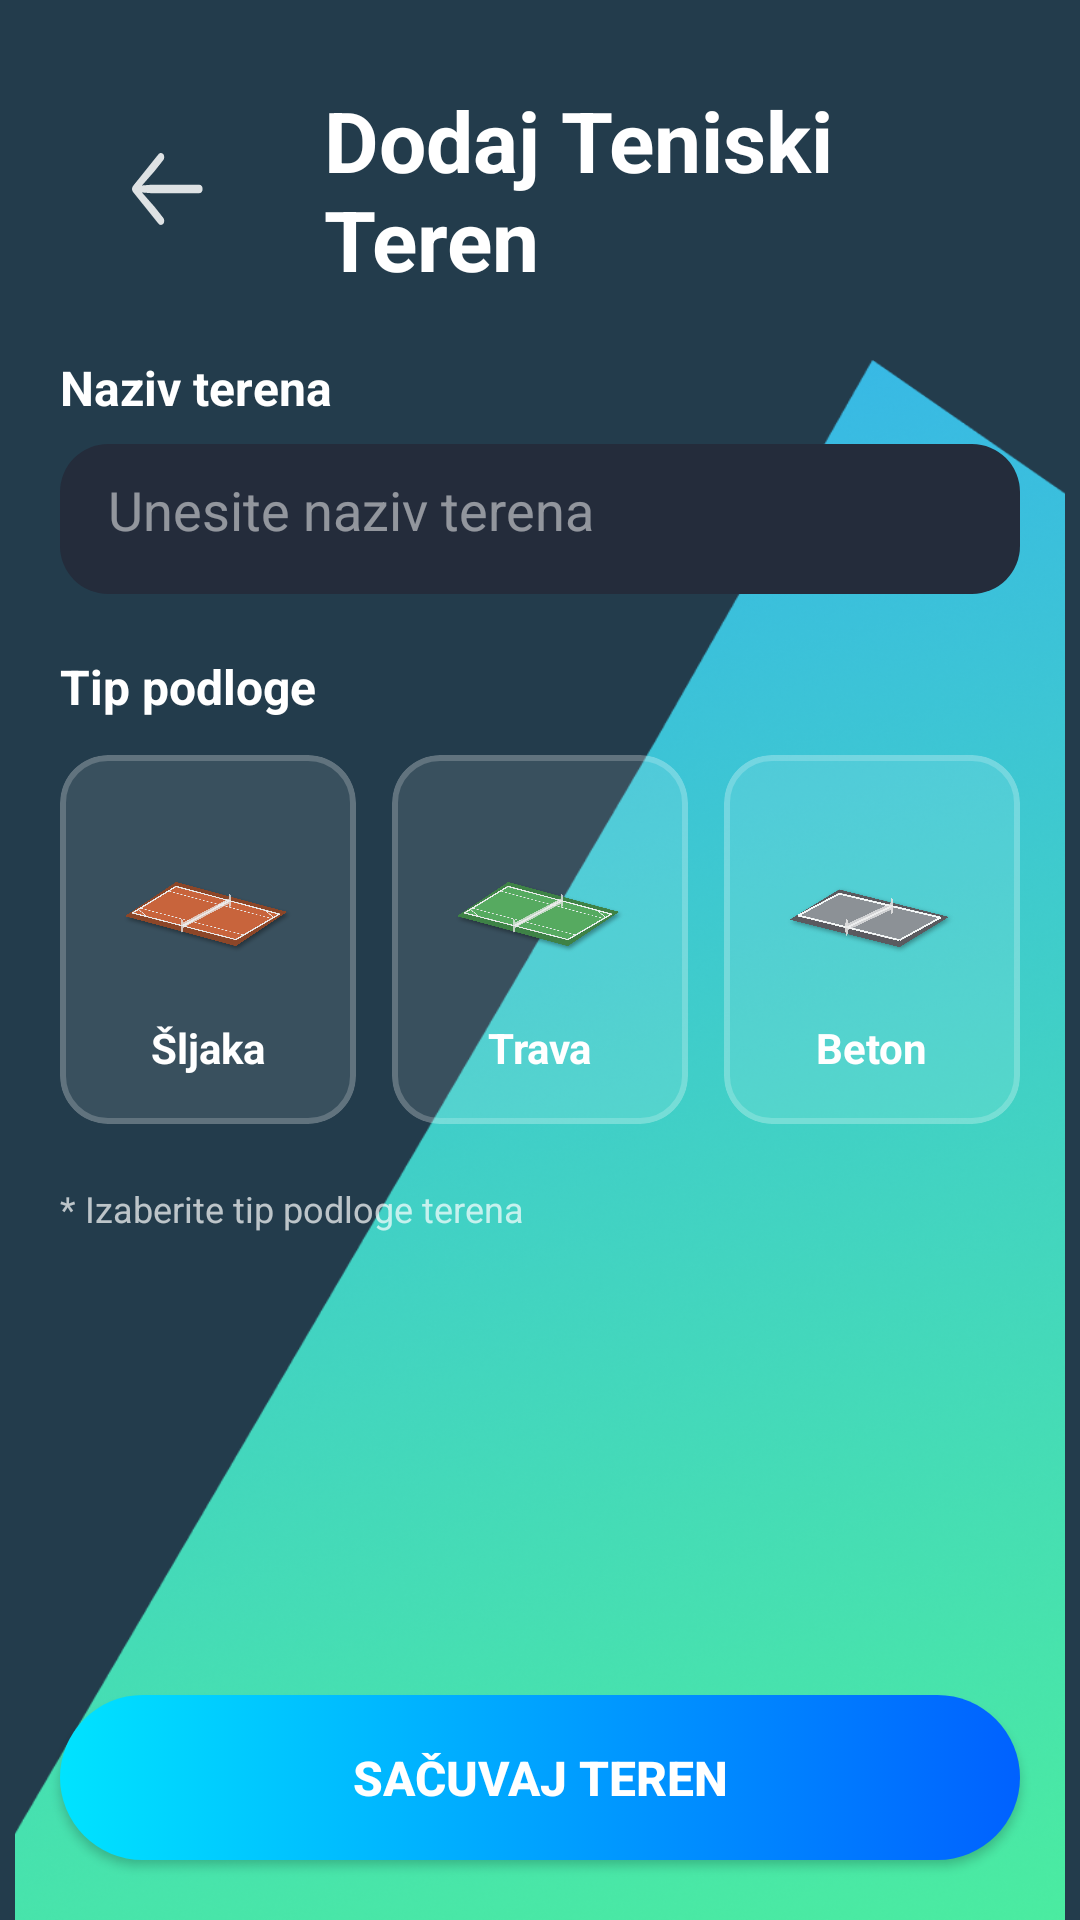

Icons on this 1080x1920 Android screen, each with the point to tap as point (x, y):
Nazad: point (167, 189)
